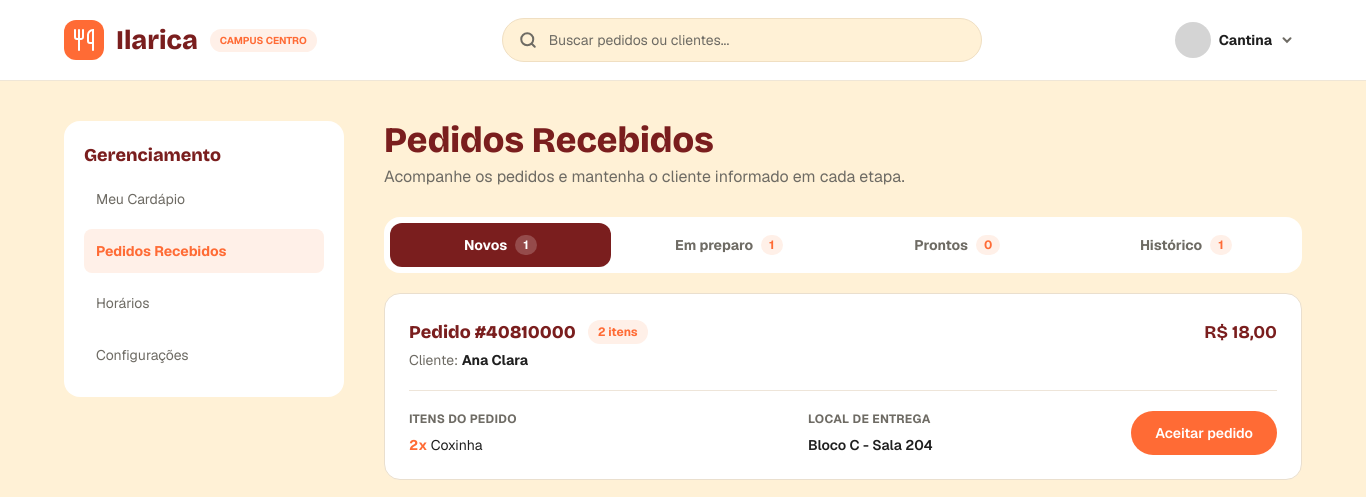
Scenario: SellerOrdersPage › shows only completed orders in the history tab
Click the tab "Histórico 1".
click(1186, 245)  # box [1076,223,1296,267]
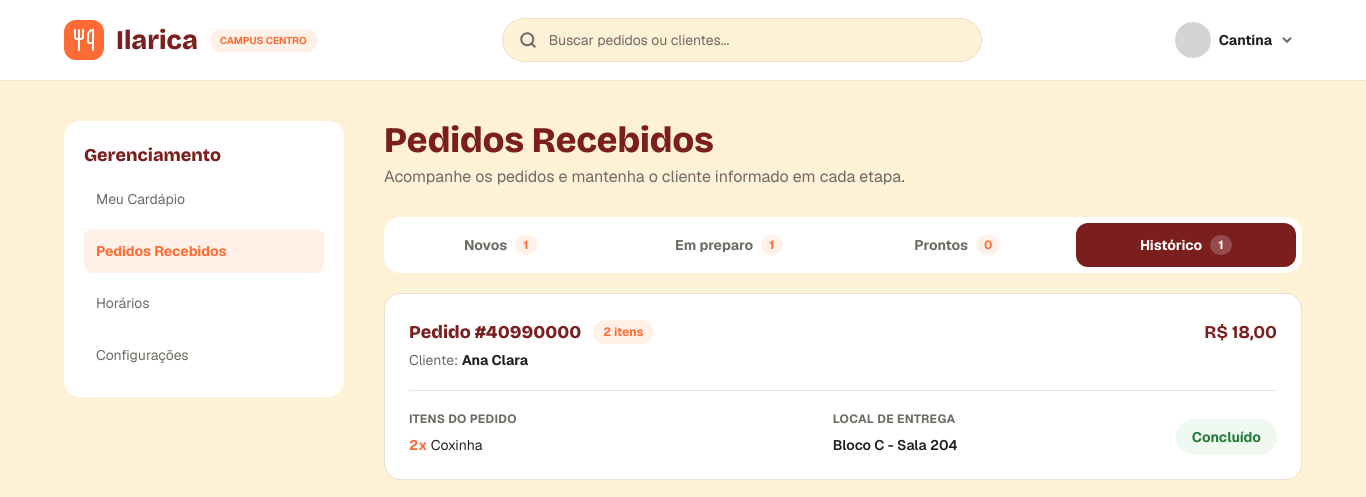
Expected: the heading "Pedido #40990000" is shown, [409,318,581,346]
Expected: the heading "Pedido #40810000" is gone
